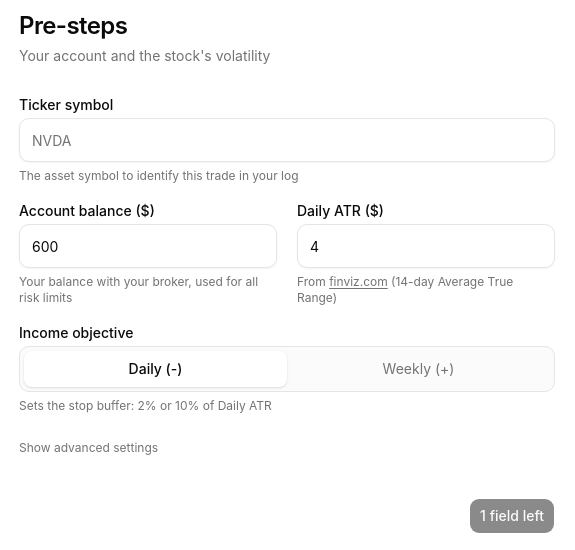
Test: given the comma-formatted account balance field › given a ticker: should normalize it to uppercase log-safe characters
Type "xau/usd" into the field labelled "Ticker symbol".
click(287, 140); type("xau/usd")  # box [19,118,555,162]
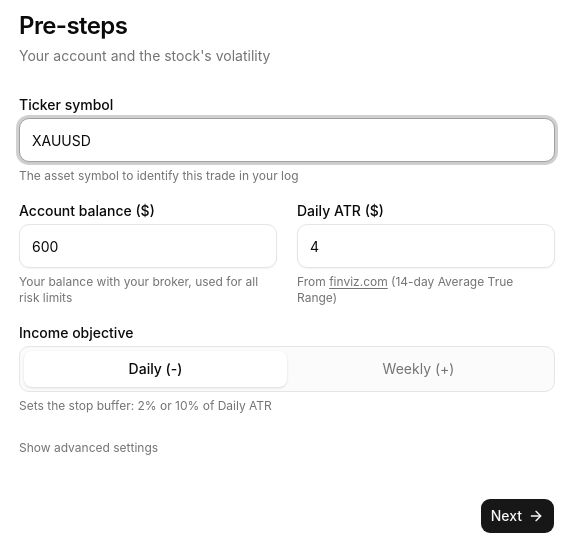
Now the field labelled "Ticker symbol" holds "XAUUSD", box [19,118,555,162]
